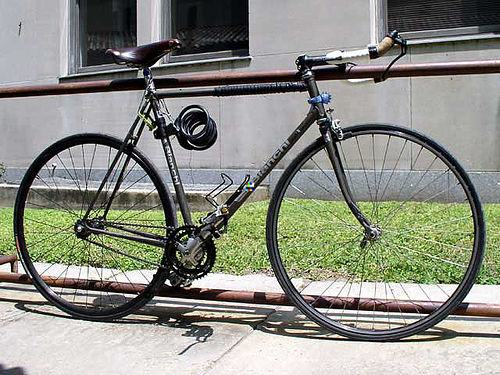car: (14, 31, 486, 343)
